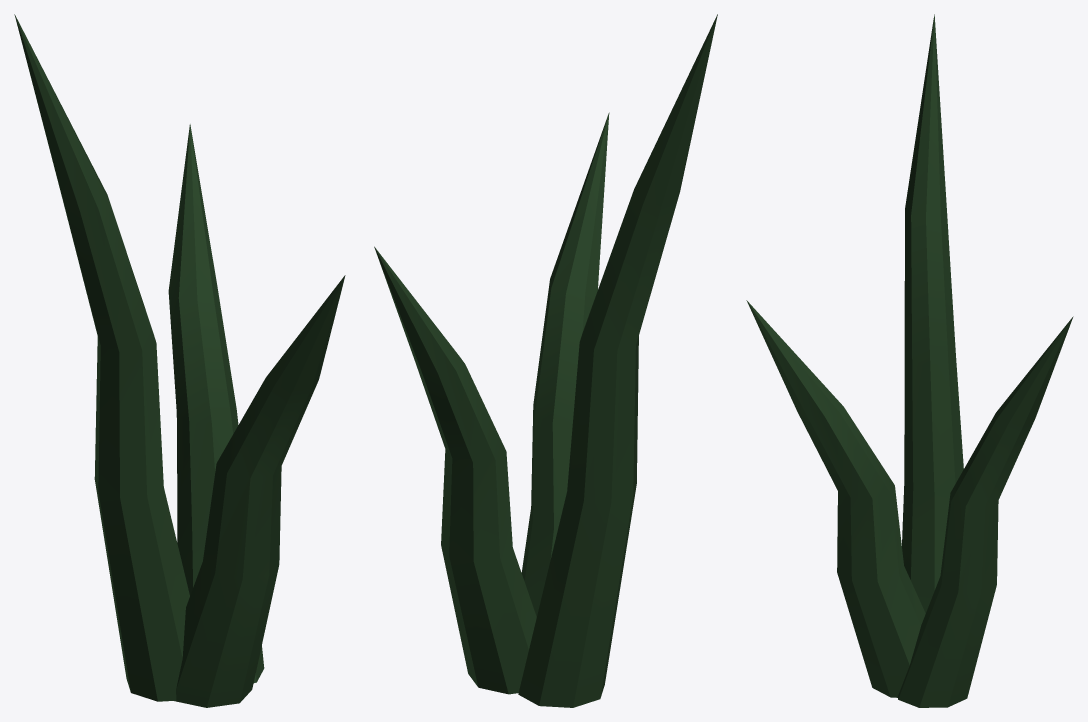
File: Grass1.fbx
3 views of the same model, side by side, from view 1: azimuth 30°, elevation 25°; view 2: azimuth 150°, elevation 25°; view 3: azimuth 270°, elevation 25° (orthographic). The views are drawn at different scales.
Visible parts, largest first — view 1: pCylinder4; view 2: pCylinder4; view 3: pCylinder4.
Boxes of the visible parts, box(x1,y1,x2,y2) form: pCylinder4: box(14, 14, 345, 707); pCylinder4: box(374, 14, 717, 707); pCylinder4: box(746, 14, 1073, 707).
Bounding box in the file's own units: 1.55 × 4.05 × 2.01.
